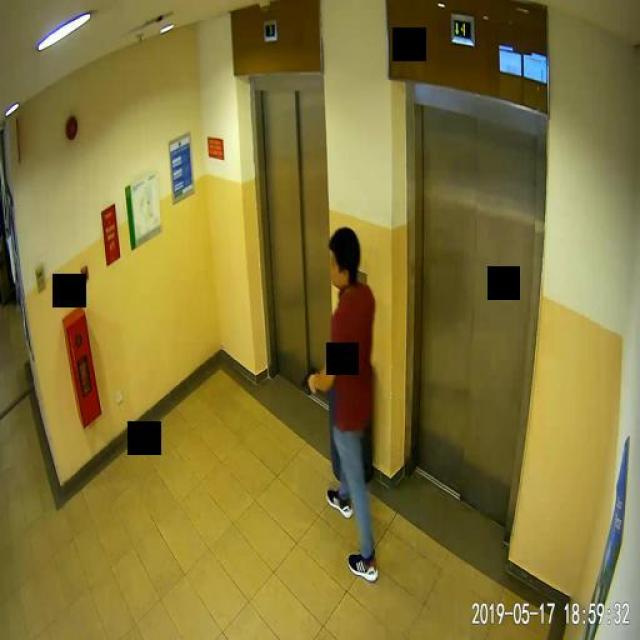gun: (300, 364, 316, 394)
